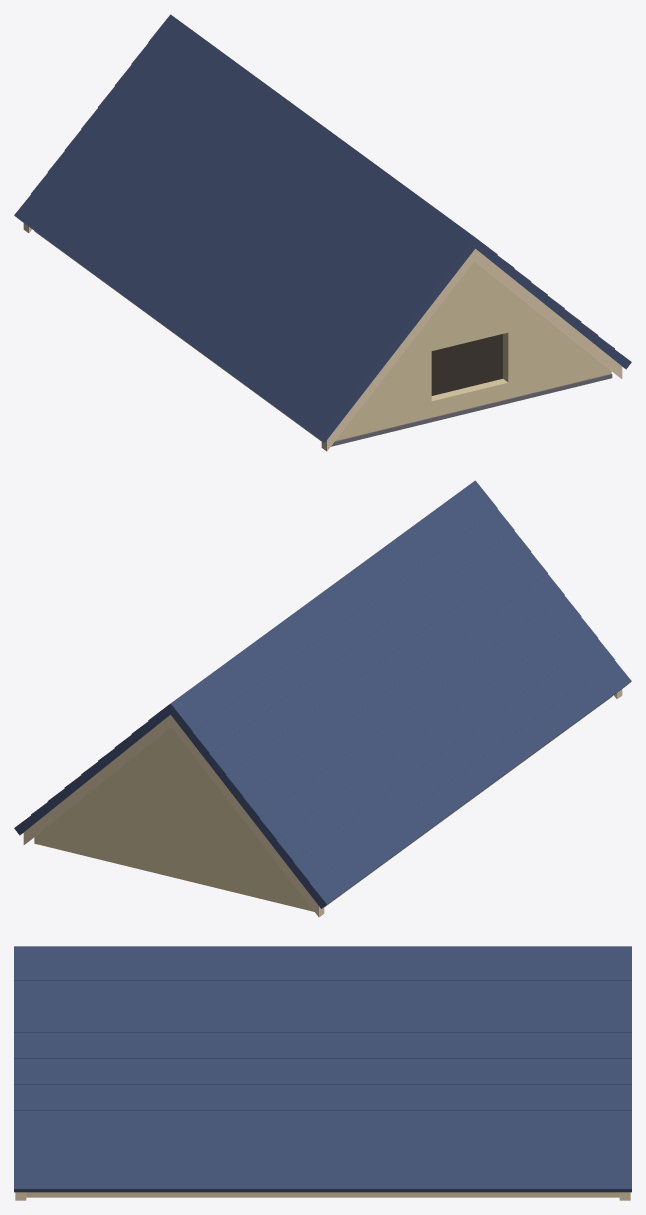
Rendered from SM_Roof_NarrowGable_Yellow_455_01.gltf.
3 views of the same model, one above another, from view 1: azimuth 30°, elevation 25°; view 2: azimuth 150°, elevation 25°; view 3: azimuth 270°, elevation 25° (orthographic).
Visible parts, largest first — view 1: SM_Roof_NarrowGable_Yellow_455_01; view 2: SM_Roof_NarrowGable_Yellow_455_01; view 3: SM_Roof_NarrowGable_Yellow_455_01.
Boxes of the visible parts, x1,y1,x2,y2 form: SM_Roof_NarrowGable_Yellow_455_01: (14,14,631,451); SM_Roof_NarrowGable_Yellow_455_01: (14,480,631,917); SM_Roof_NarrowGable_Yellow_455_01: (14,946,631,1200).
Bounding box in the file's own units: 5.04 × 2.74 × 8.49.
1 material, 1 textured.
